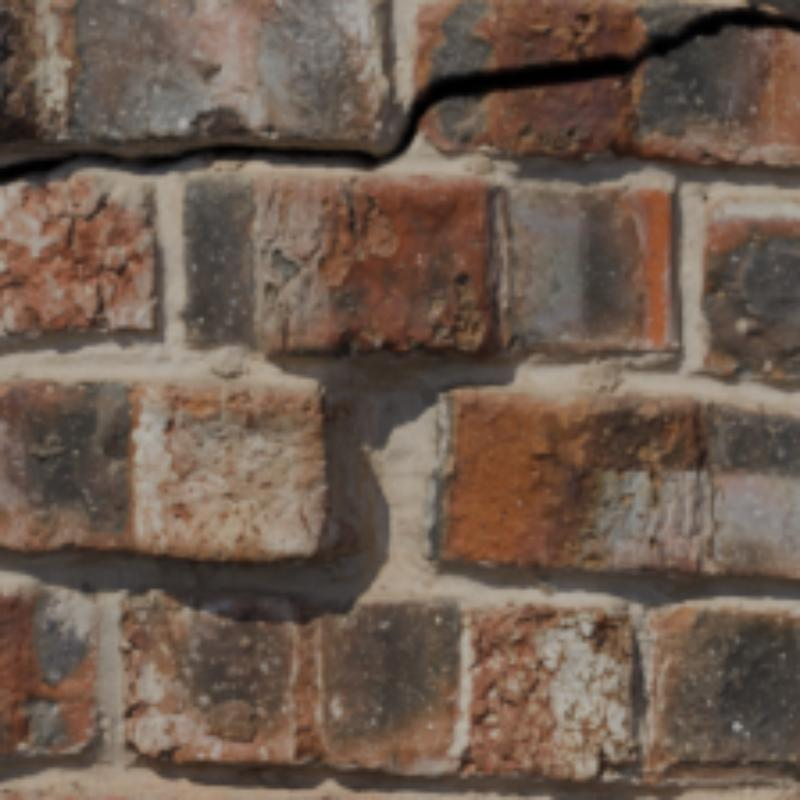pothole: (0, 11, 796, 186)
